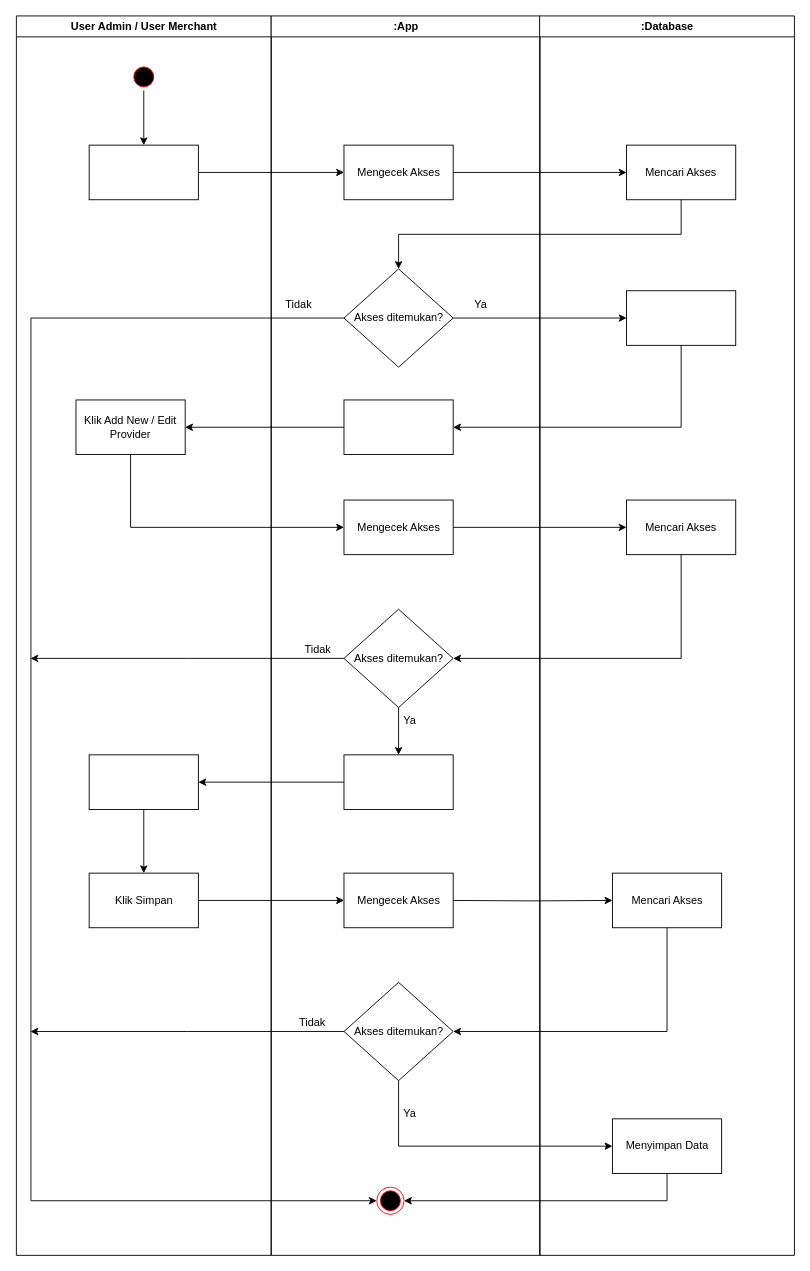
Image size: 810x1271. Some labels were removed from this diagram. The shapes that lost their labels are listed below. From the top down, each one's centre as x and y in pixels, then its label:
point (143, 172): Membuka Menu Payment Gateways --> Account
point (681, 317): Mendapatkan List Account
point (398, 427): Menampilkan List Account
point (143, 781): Melengkapi Form
point (398, 781): Menampilkan Form
